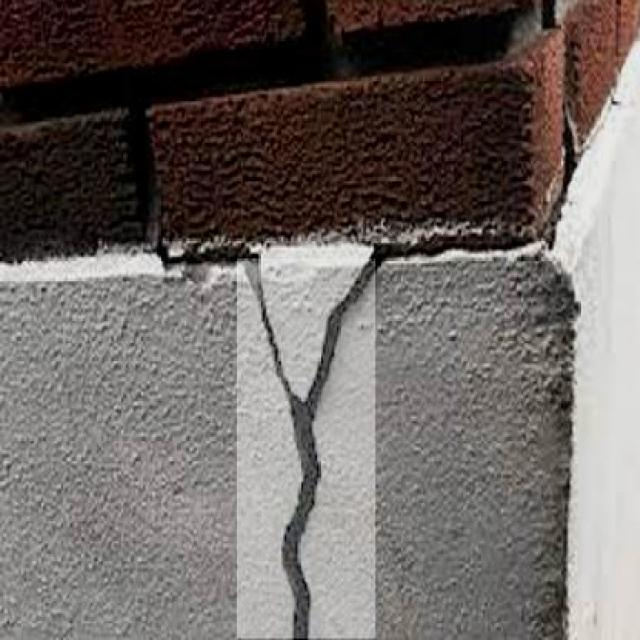Crack: (227, 247, 385, 640)
